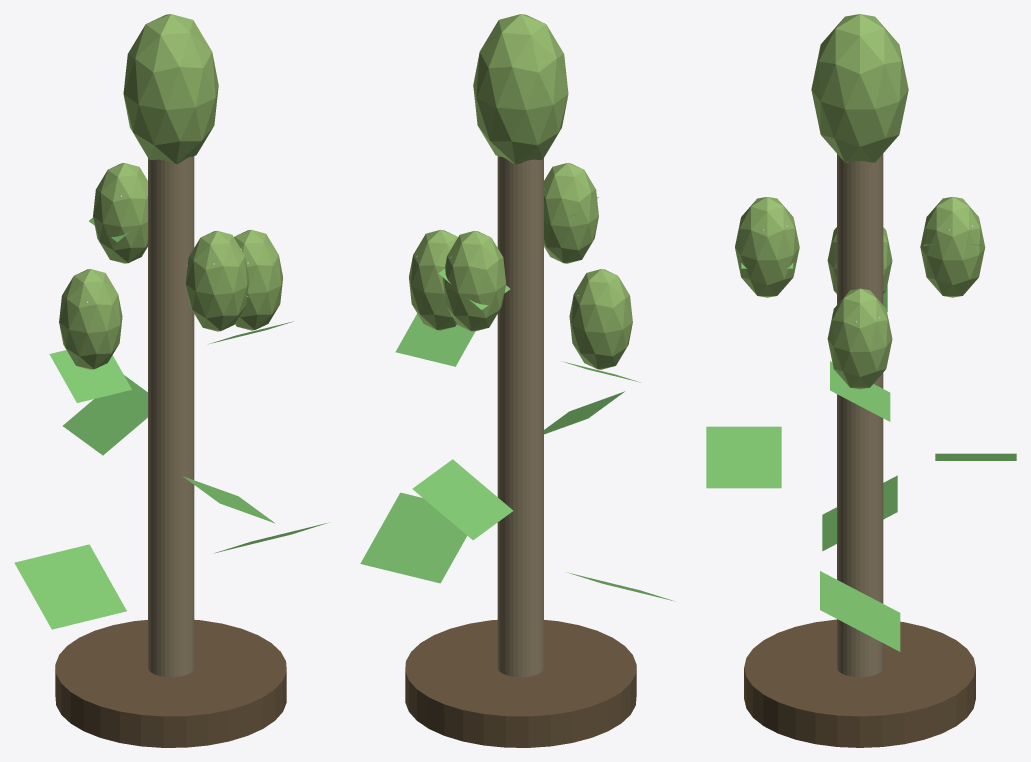
File: plant_flowering_morphs.glb
3 views of the same model, side by side, from view 1: azimuth 30°, elevation 25°; view 2: azimuth 150°, elevation 25°; view 3: azimuth 270°, elevation 25° (orthographic).
Parts seen in each view (by area): view 1: MainStem, Soil, MainCola, Leaf_1, SideBud_1, SideBud_3, SideBud_2, Leaf_2, SideBud_0, Leaf_5, Leaf_3; view 2: MainStem, Soil, MainCola, Leaf_0, SideBud_1, SideBud_2, SideBud_3, Leaf_2, SideBud_0, Leaf_4, Leaf_3; view 3: Soil, MainStem, MainCola, SideBud_0, SideBud_2, SideBud_3, Leaf_3, Leaf_0, Leaf_4, Leaf_1, SideBud_1, Leaf_2.
Boxes of the visible parts, <box> form: MainStem: <box>148,156,194,677</box>; Soil: <box>55,619,286,747</box>; MainCola: <box>123,14,218,164</box>; Leaf_1: <box>14,544,126,629</box>; SideBud_1: <box>59,269,122,369</box>; SideBud_3: <box>185,230,249,331</box>; SideBud_2: <box>93,163,147,263</box>; Leaf_2: <box>63,375,147,455</box>; SideBud_0: <box>234,229,282,330</box>; Leaf_5: <box>49,350,131,402</box>; Leaf_3: <box>182,476,275,523</box>; MainStem: <box>497,156,543,677</box>; Soil: <box>405,619,636,747</box>; MainCola: <box>473,14,568,164</box>; Leaf_0: <box>360,492,466,583</box>; SideBud_1: <box>569,269,632,369</box>; SideBud_2: <box>442,230,506,331</box>; SideBud_3: <box>544,163,598,263</box>; Leaf_2: <box>412,459,513,540</box>; SideBud_0: <box>409,229,457,330</box>; Leaf_4: <box>395,313,475,366</box>; Leaf_3: <box>544,391,624,434</box>; Soil: <box>744,619,975,747</box>; MainStem: <box>837,153,883,677</box>; MainCola: <box>811,14,908,162</box>; SideBud_0: <box>827,288,892,389</box>; SideBud_2: <box>920,197,985,297</box>; SideBud_3: <box>735,197,799,297</box>; Leaf_3: <box>706,426,781,488</box>; Leaf_0: <box>820,571,900,651</box>; Leaf_4: <box>830,361,890,421</box>; Leaf_1: <box>822,475,897,551</box>; SideBud_1: <box>827,227,892,293</box>; Leaf_2: <box>935,453,1016,460</box>.
Bounding box in the file's own units: 0.2775 × 0.652 × 0.2675.
